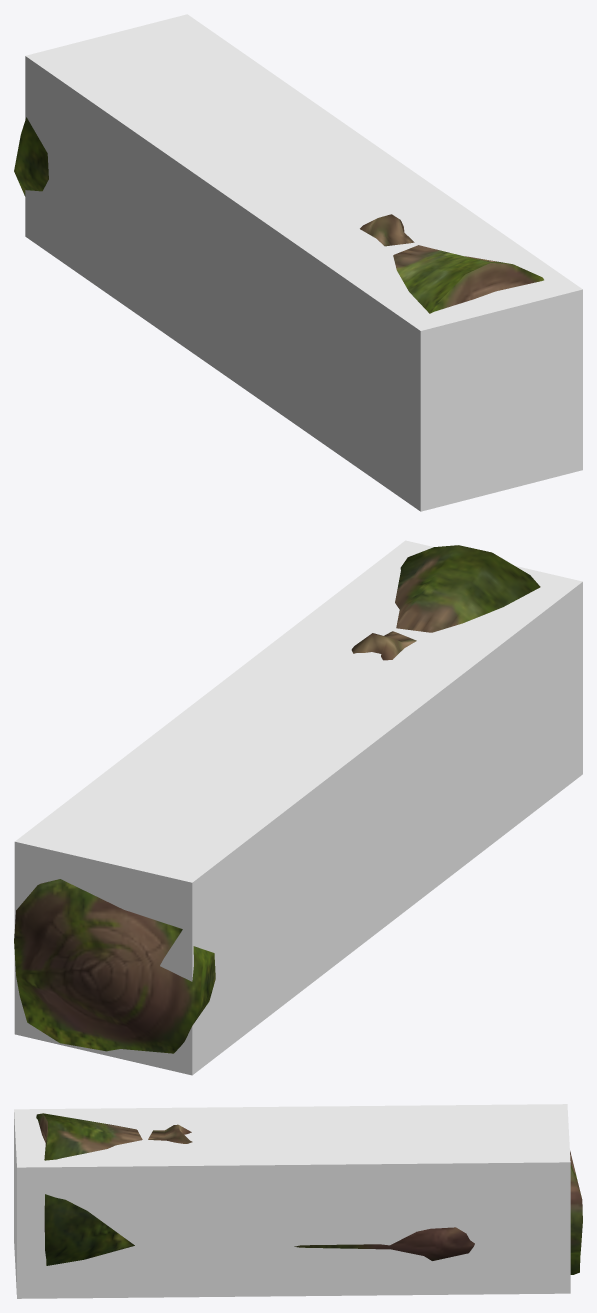
File: Timber_F.fbx
3 views of the same model, one above another, from view 1: azimuth 30°, elevation 25°; view 2: azimuth 150°, elevation 25°; view 3: azimuth 270°, elevation 25° (orthographic). The views are drawn at different scales.
Parts seen in each view (by area): view 1: Cube__3_, Timber_F; view 2: Cube__3_, Timber_F; view 3: Cube__3_, Timber_F.
Boxes of the visible parts, x1,y1,x2,y2 form: Cube__3_: (25, 14, 582, 511); Timber_F: (14, 117, 543, 313); Cube__3_: (14, 540, 582, 1075); Timber_F: (14, 545, 540, 1053); Cube__3_: (14, 1104, 570, 1298); Timber_F: (36, 1113, 582, 1274).
Size of the model in its own units: 194 by 197 by 667.
Materials: 2 (1 with a texture image).
